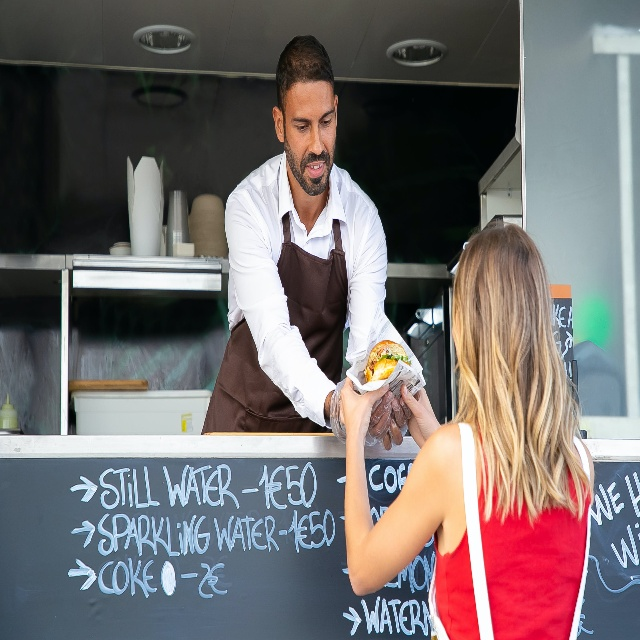Guantes: (329, 378, 393, 446), (379, 395, 412, 451)
Sin_guantes: (340, 374, 390, 447), (400, 383, 441, 449), (382, 396, 412, 451), (367, 389, 392, 440)
